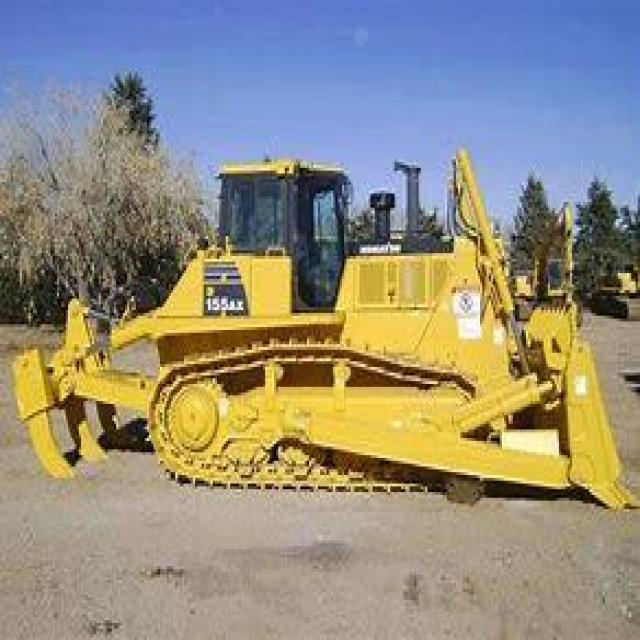Bulldozer: (9, 145, 638, 518)
